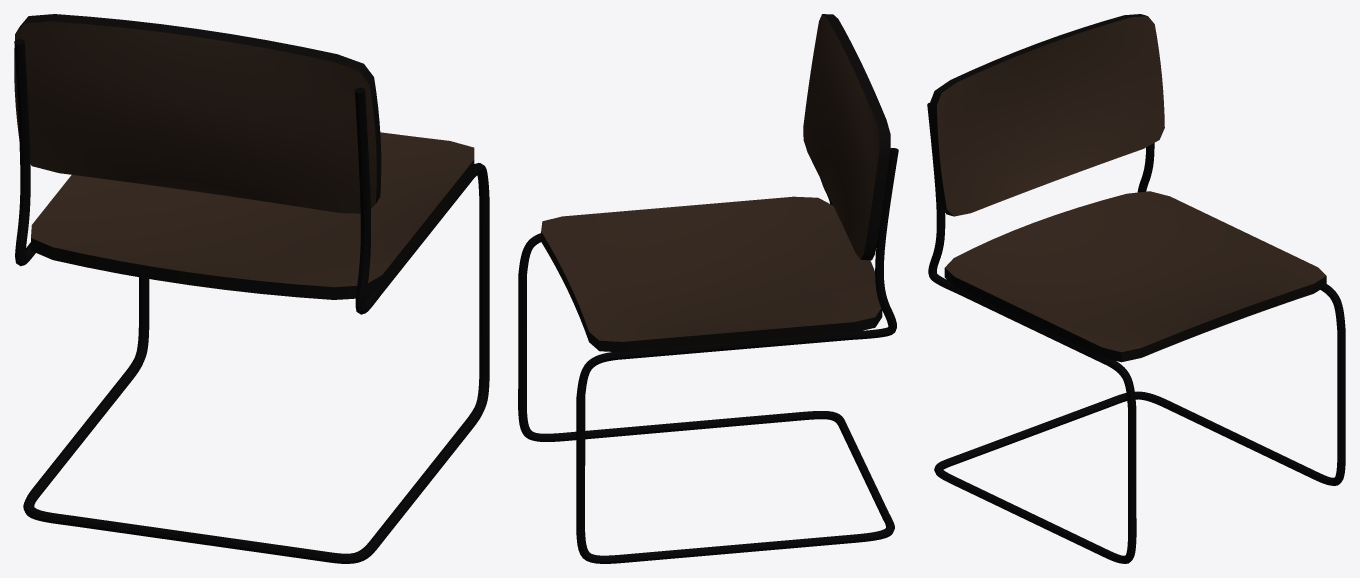
The model's file is chair.fbx.
The picture shows the model from 3 angles, left to right: view 1: azimuth 30°, elevation 25°; view 2: azimuth 150°, elevation 25°; view 3: azimuth 270°, elevation 25°; orthographic projection. The views are drawn at different scales.
Visible parts, largest first — view 1: Box064, Box063, Line009; view 2: Box063, Line009, Box064; view 3: Box063, Box064, Line009.
Part boxes in pixels (x1,y1,x2,y2): Box064: (14, 14, 381, 213); Box063: (31, 132, 474, 299); Line009: (14, 39, 489, 563); Box063: (541, 196, 882, 352); Line009: (518, 148, 898, 563); Box064: (803, 14, 890, 260); Box063: (944, 191, 1326, 362); Box064: (929, 14, 1164, 216); Line009: (927, 102, 1345, 563).
Size of the model in its own units: 19.52 by 20.15 by 19.42.
